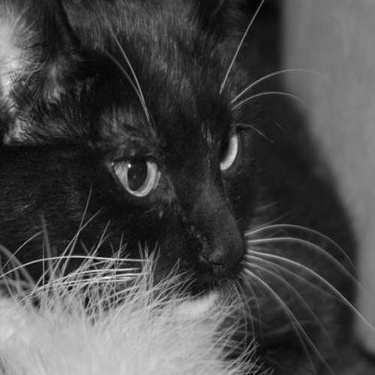cat: (11, 6, 359, 369)
